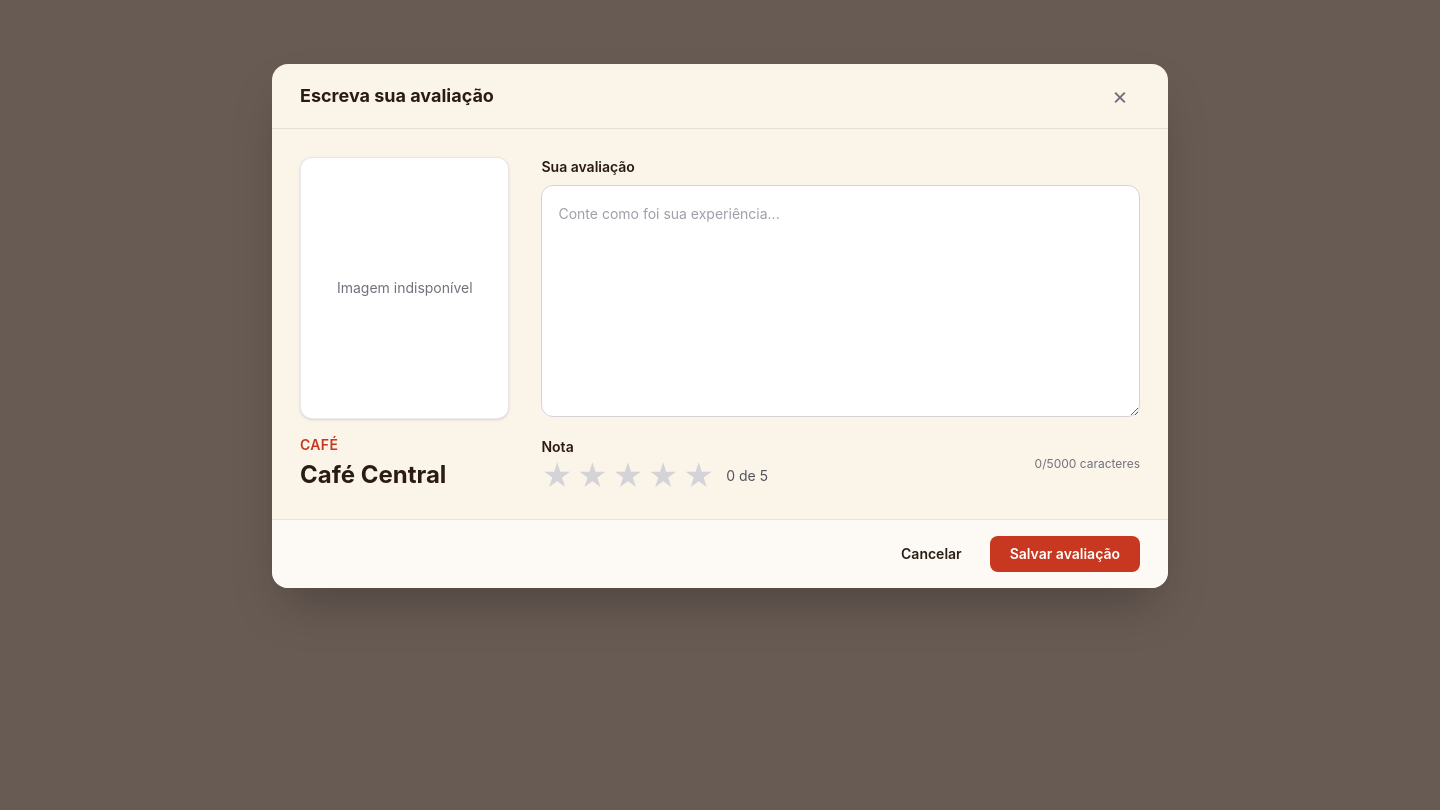
Test case: edição e envio de avaliações › exige uma nota antes de enviar
Click the button "Salvar avaliação": {"x": 1065, "y": 554} x1=990 y1=536 x2=1140 y2=572
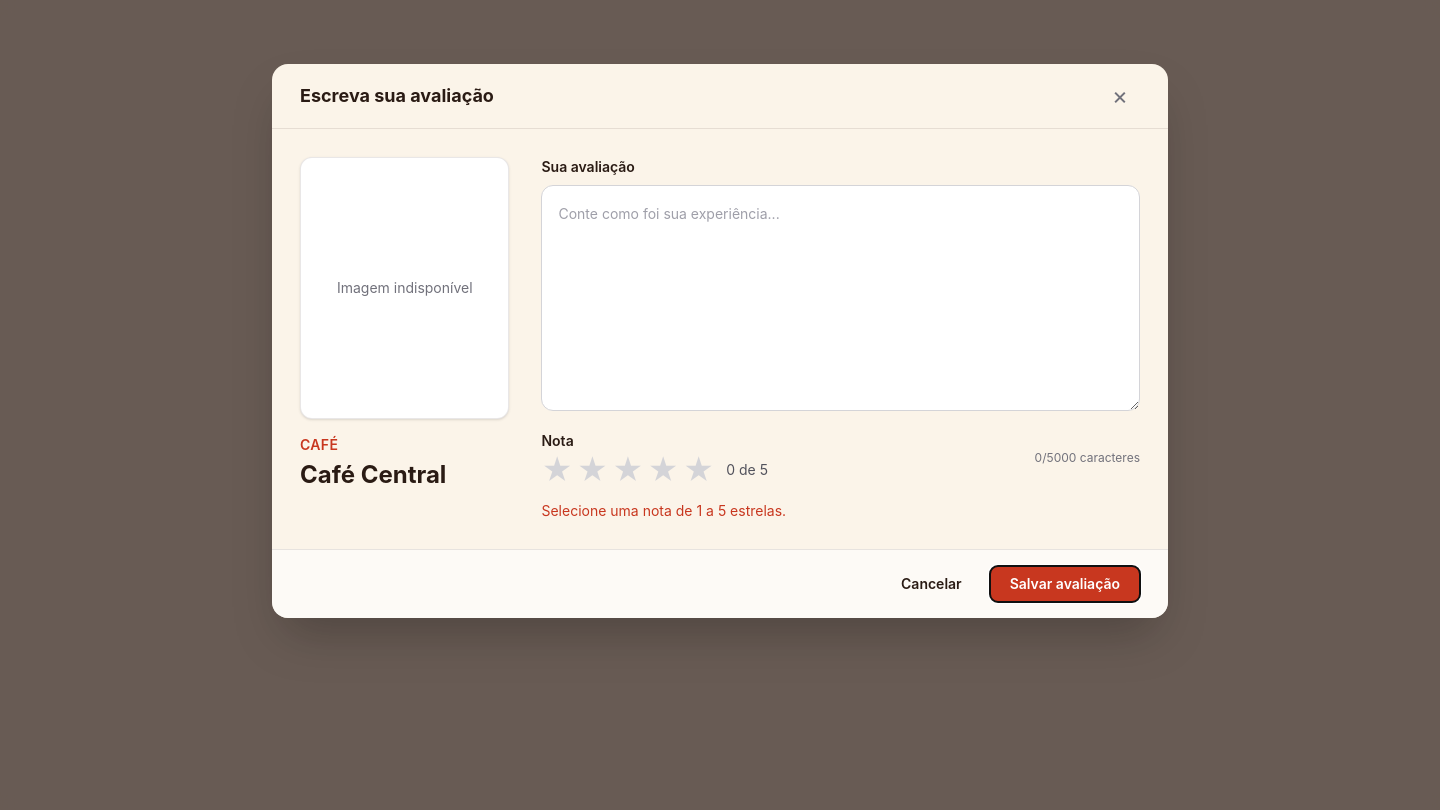
Now the message reads "Selecione uma nota de 1 a 5 estrelas.", box x1=542 y1=502 x2=786 y2=519
